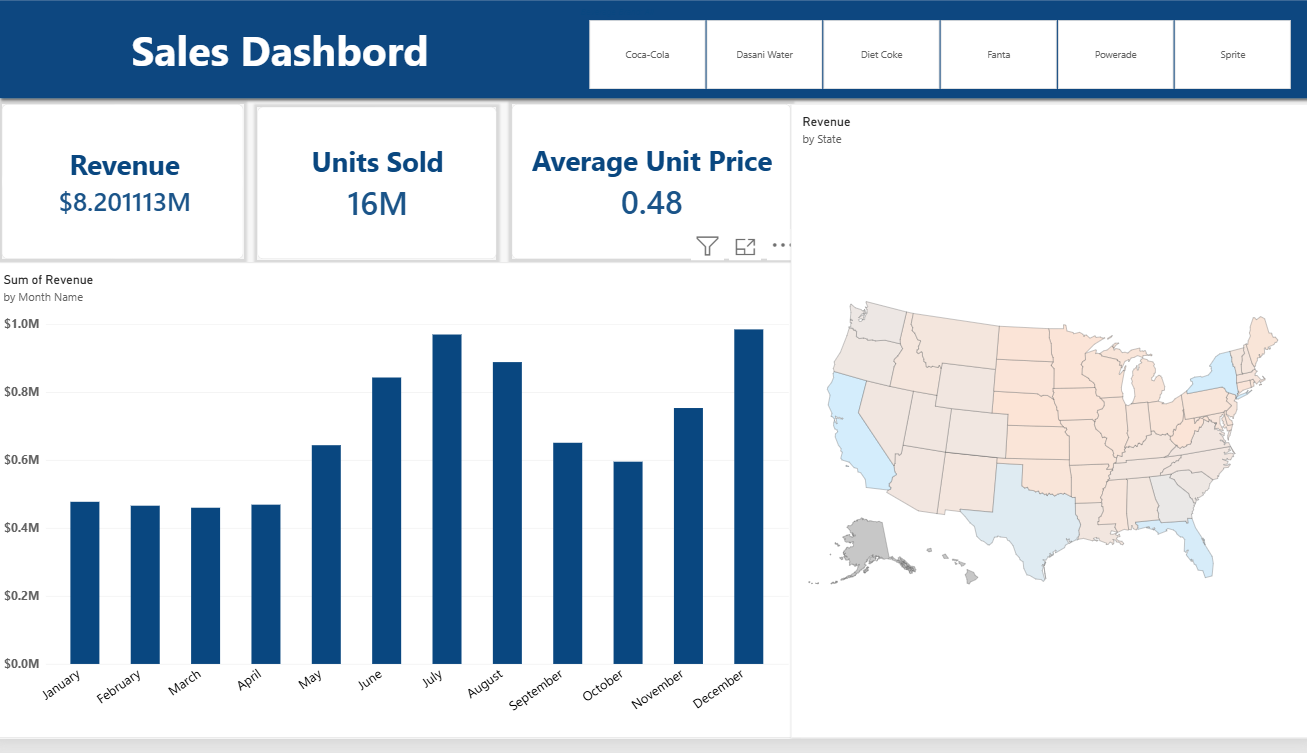

Layout of this report page (visuals, bound fields, positions):
{"tool":"powerbi","page":{"name":"Page 1","canvas":[1920,1080],"ordinal":0},"visuals":[{"type":"cardVisual","fields":{"Data":["Sum(Data.Revenue)"]},"box":[14,159.6,351.2,225.5],"z":0},{"type":"shape","box":[0,0,1919.9,160.2],"z":1000},{"type":"cardVisual","fields":{"Data":["Sum(Data.Units Sold)"]},"box":[385.1,163.6,347.2,221.5],"z":2000},{"type":"cardVisual","fields":{"Data":["Avg(Data.Price per Unit)"]},"box":[754.3,159.6,405.1,225.5],"z":3000},{"type":"clusteredColumnChart","fields":{"Category":["Data.Month Name"],"Y":["Sum(Data.Revenue)"]},"box":[0,389.1,1173.3,690.4],"z":4000},{"type":"shapeMap","fields":{"Category":["Data.State"],"Value":["Sum(Data.Revenue)"]},"box":[1159.4,159.6,760.3,919.9],"z":5000},{"type":"slicer","fields":{"Values":["Data.Beverage Brand"]},"box":[846.1,20,1057.6,119.7],"z":5001}]}

Visuals, with their boxes in screenshot pixels (x1, y1, x2, y2), scaled from the page's 1920x1080 canvas onto the 1307x753 screenshot:
cardVisual - Sum(Data.Revenue): rect(10, 111, 249, 269)
shape: rect(0, 0, 1306, 112)
cardVisual - Sum(Data.Units Sold): rect(262, 114, 498, 269)
cardVisual - Avg(Data.Price per Unit): rect(513, 111, 789, 269)
clusteredColumnChart - Data.Month Name x Sum(Data.Revenue): rect(0, 271, 799, 752)
shapeMap - Data.State x Sum(Data.Revenue): rect(789, 111, 1306, 752)
slicer - Data.Beverage Brand: rect(576, 14, 1296, 97)
